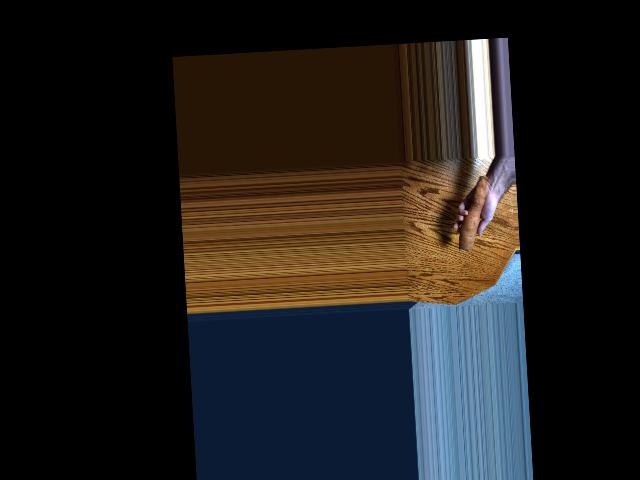sweet_potato: (452, 176, 493, 251)
